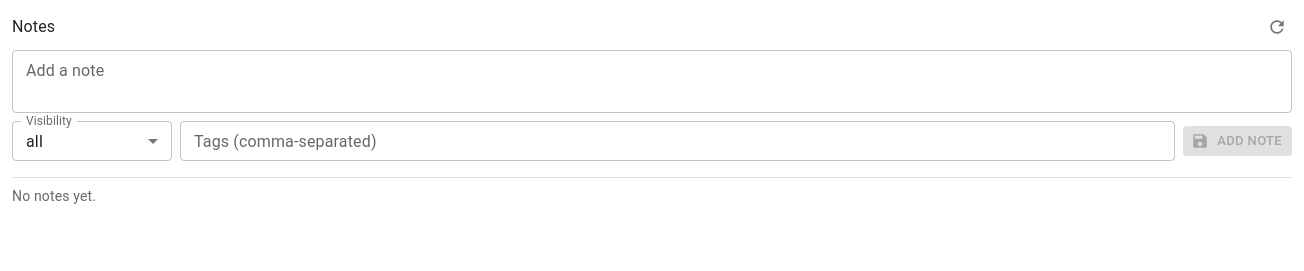
NotesPanel › creates a note and appends it to the list on success
Expected: the text "No notes yet." is shown, [12, 188, 96, 204]
Type "My new note" into the text box named "note content" at (652, 82), box [26, 58, 1278, 104]
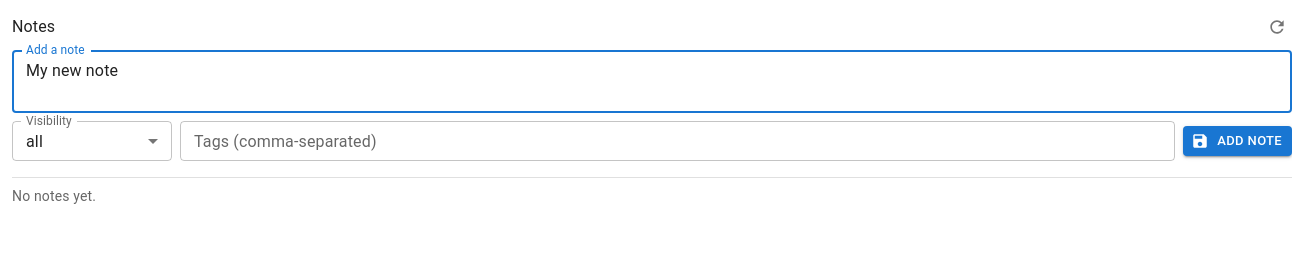
Click the button "Add note" at (1238, 141), box [1183, 126, 1292, 156]
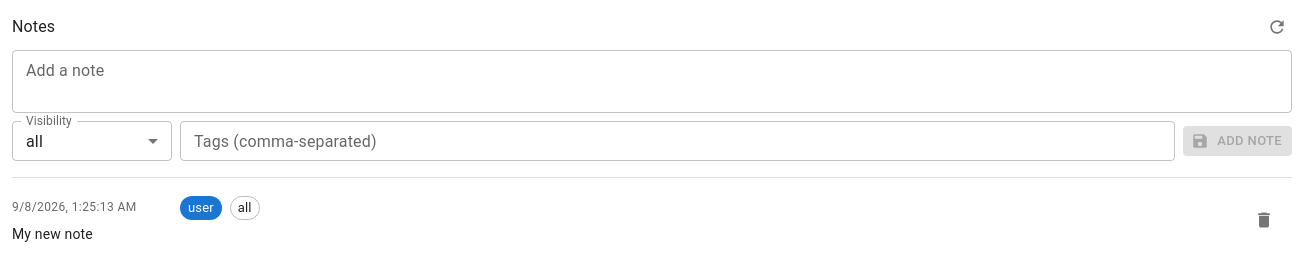
Expected: the list item with test id "note-99" is shown, [12, 186, 1292, 254]
Expected: the text with test id "note-99-content" reads "My new note", [12, 226, 93, 242]
